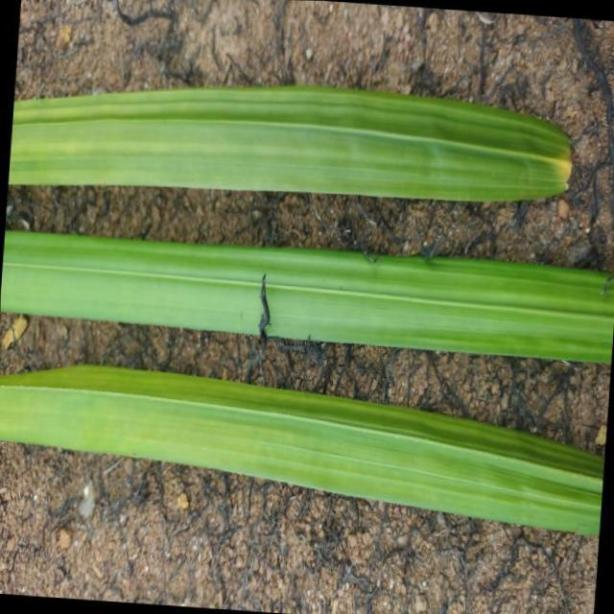nitrogen: (0, 361, 614, 530), (0, 227, 614, 360), (7, 81, 614, 199)
